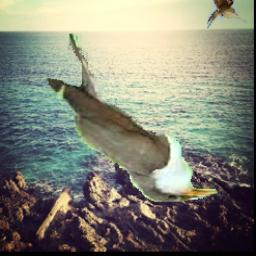Cuckoo: (44, 35, 223, 203)
Swallow: (206, 0, 247, 28)
